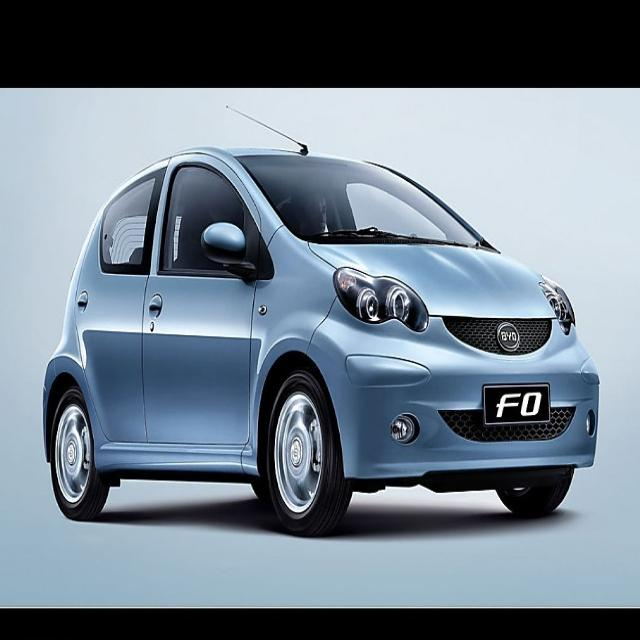door: (75, 160, 174, 456)
front_bumper: (310, 312, 600, 476)
front_glass: (233, 150, 491, 250)
front_left_side_light: (538, 273, 576, 336)
front_right_side_door: (141, 152, 263, 449)
front_right_side_light: (332, 265, 431, 334)
front_right_side_mirror: (200, 221, 257, 285)
wheel: (264, 369, 349, 539), (50, 384, 110, 520)
